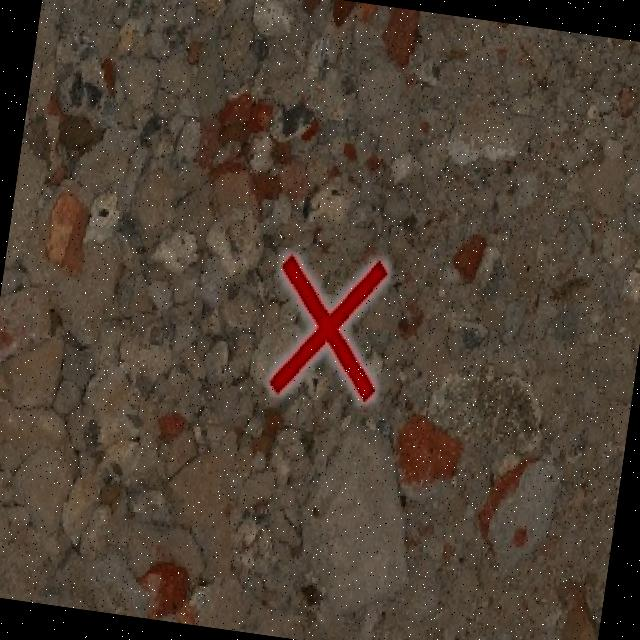x_marker: (264, 249, 392, 404)
